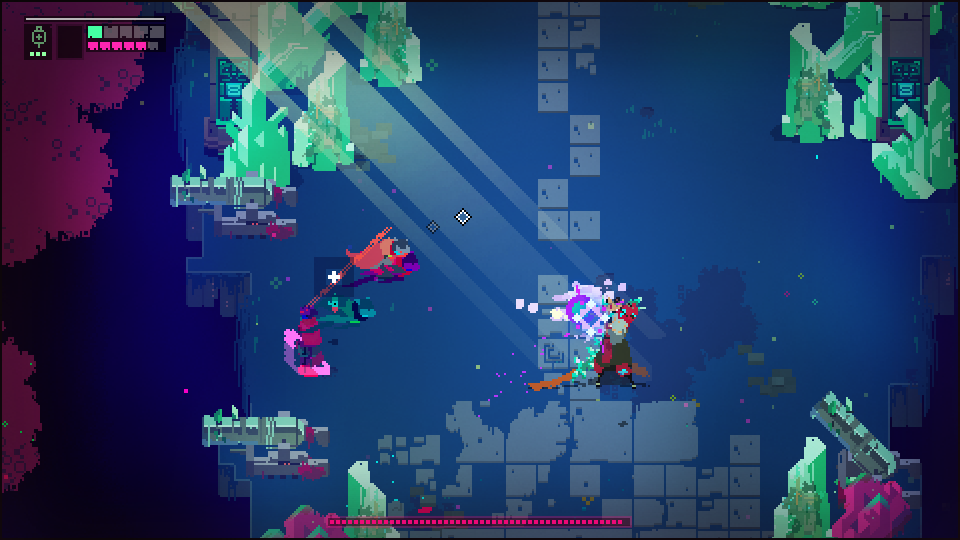hanged_man: (560, 290, 648, 398)
hanged_shot: (561, 294, 598, 325), (568, 290, 597, 328)
player: (343, 236, 414, 279)
